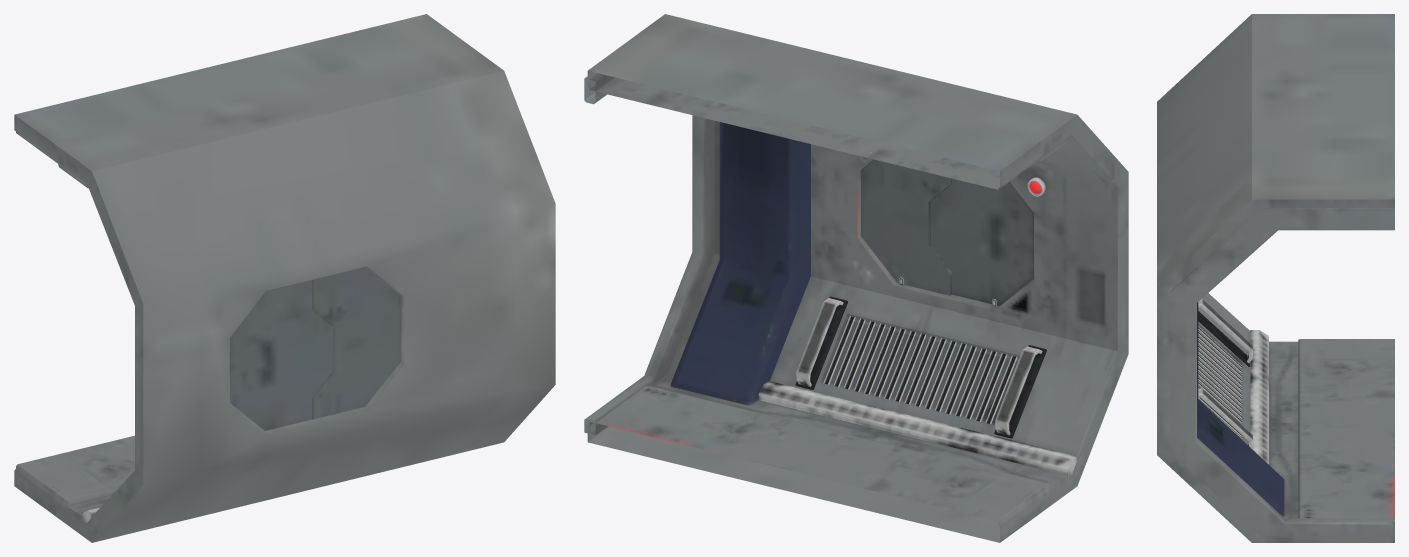
Rendered from wall-b.glb.
3 views of the same model, side by side, from view 1: azimuth 30°, elevation 25°; view 2: azimuth 150°, elevation 25°; view 3: azimuth 270°, elevation 25° (orthographic). The views are drawn at different scales.
Parts seen in each view (by area): view 1: Env_Wall3_Walls_0; view 2: Env_Wall3_Walls_0; view 3: Env_Wall3_Walls_0.
Boxes of the visible parts, x1,y1,x2,y2 form: Env_Wall3_Walls_0: (14, 14, 555, 542); Env_Wall3_Walls_0: (584, 14, 1128, 542); Env_Wall3_Walls_0: (1157, 14, 1394, 542).
Bounding box in the file's own units: 4.49 × 3.83 × 2.41.
1 material, 1 textured.
